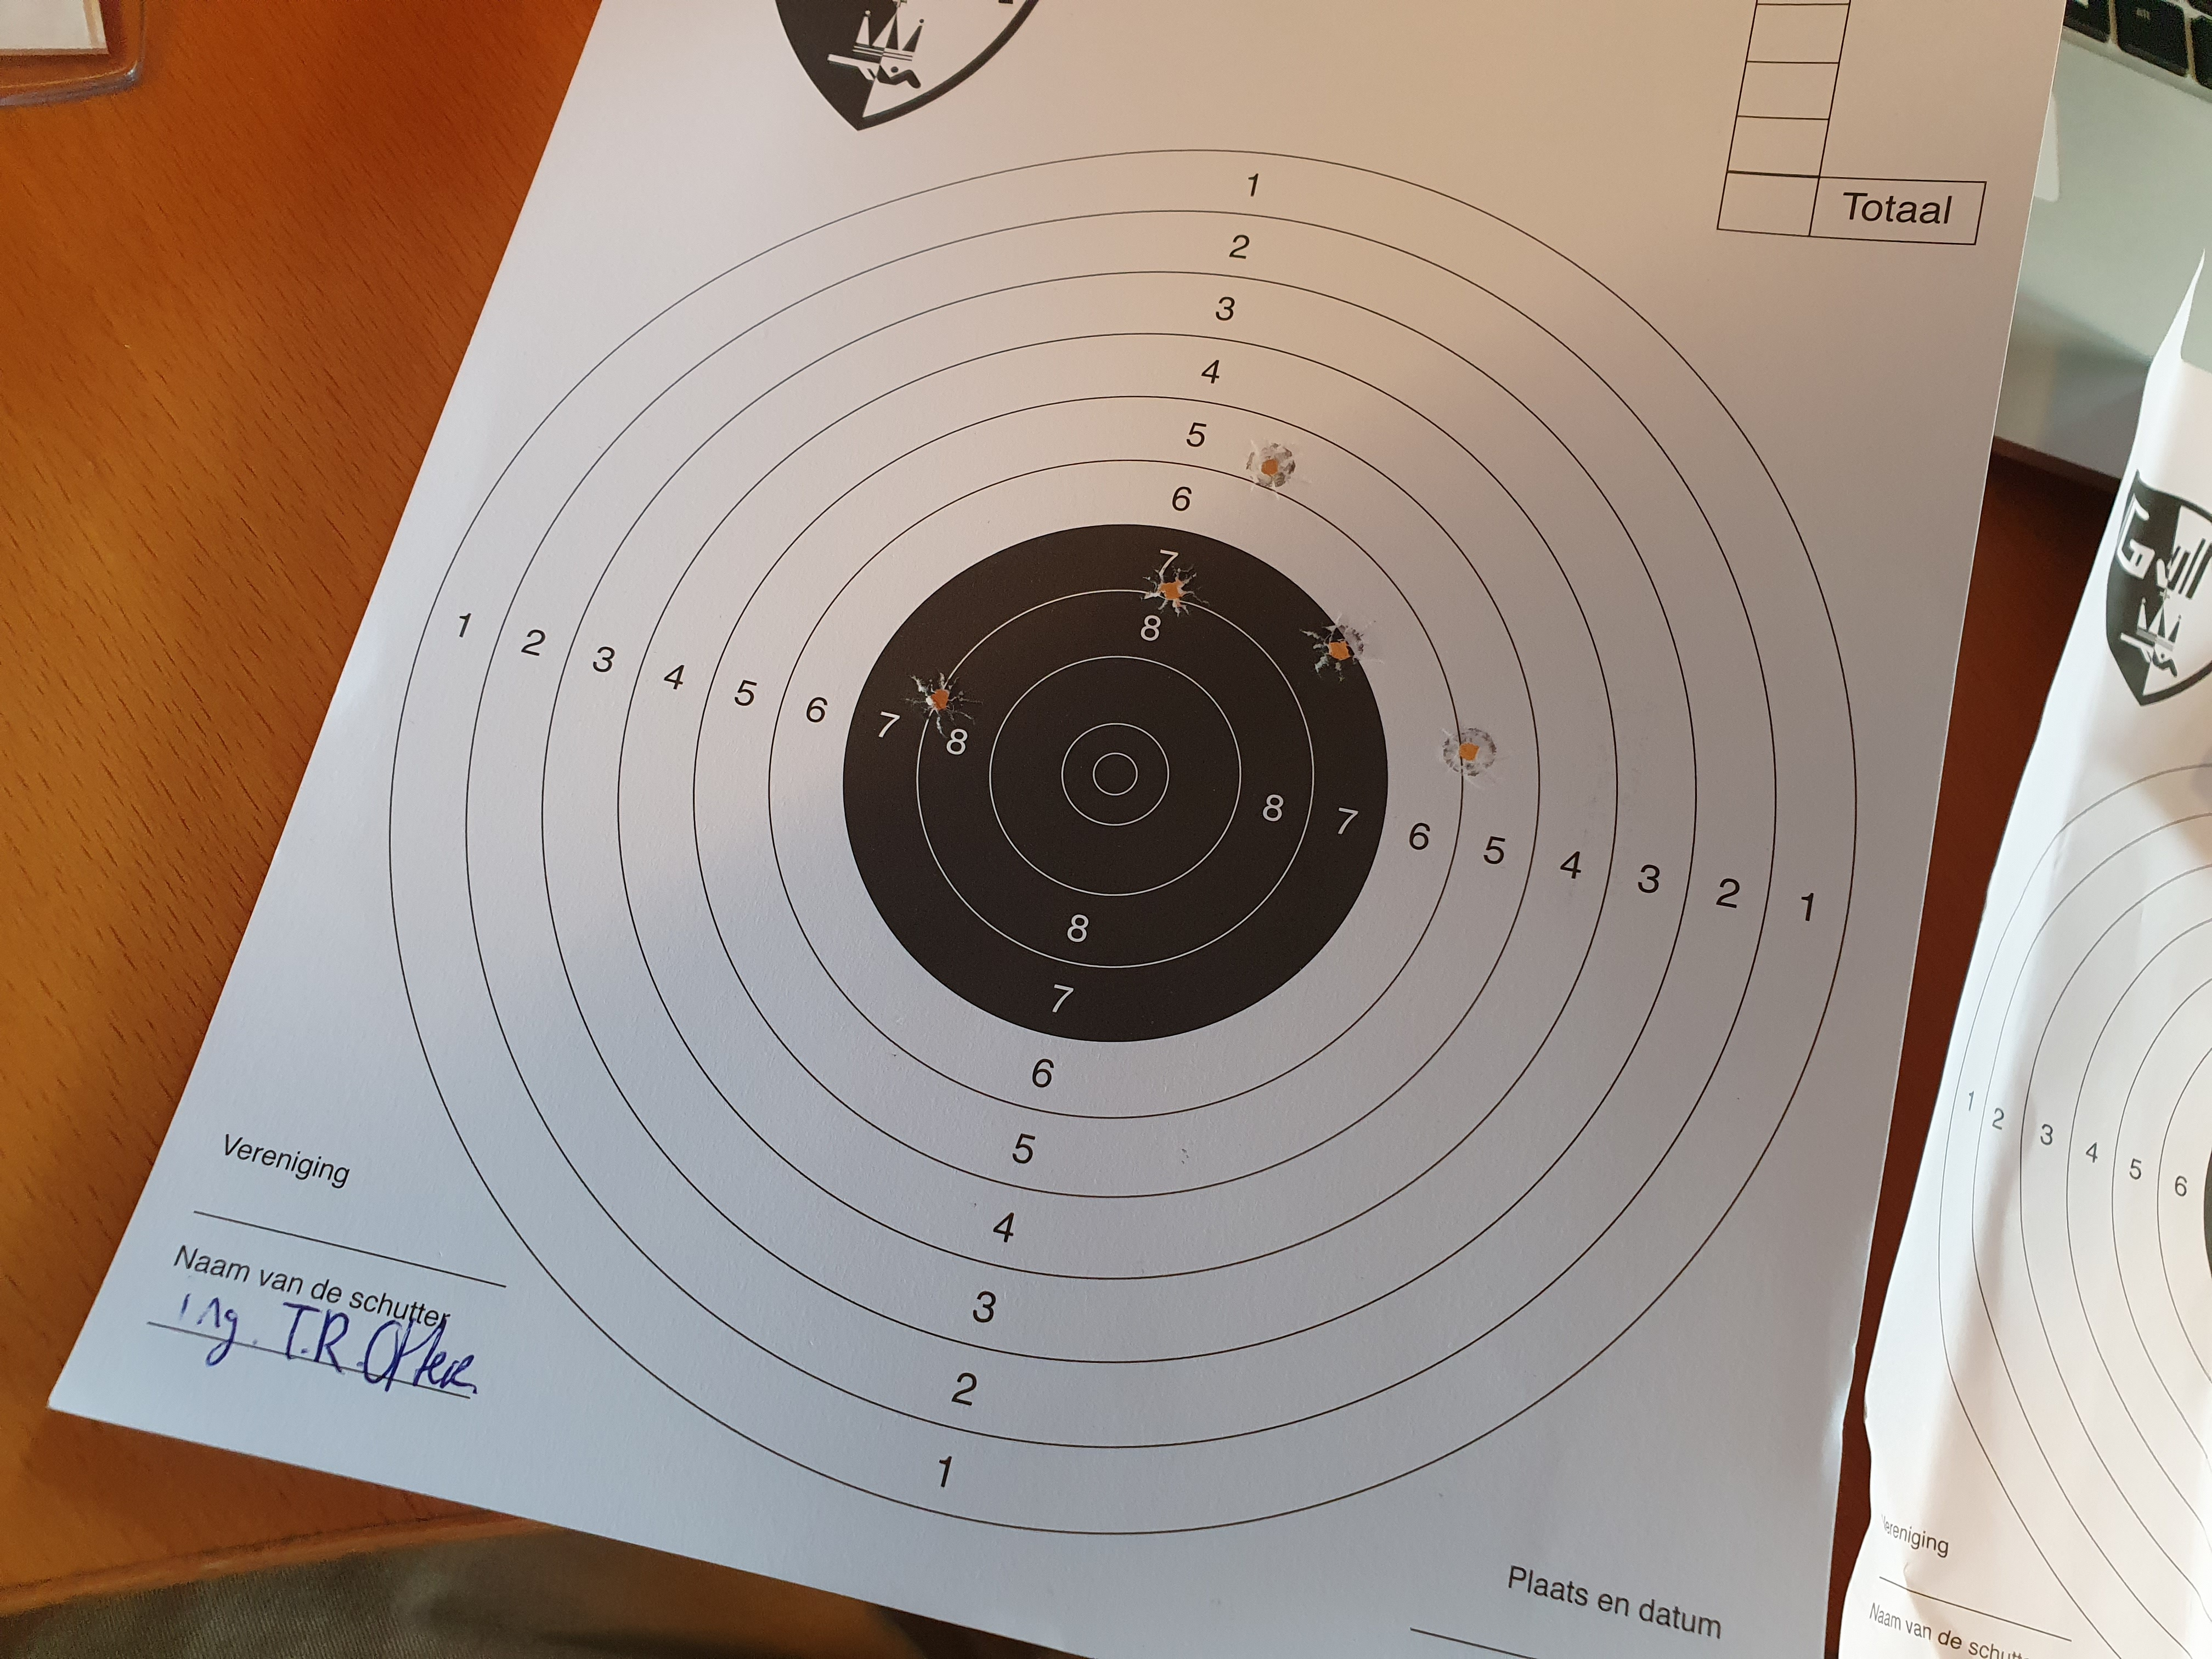center: (841, 523, 1388, 1042)
out: (388, 148, 1858, 1534)
shot: (1296, 610, 1388, 683), (897, 669, 986, 739), (1435, 721, 1508, 788), (1240, 437, 1315, 500), (1139, 563, 1211, 619)
target: (1061, 721, 1170, 826)
